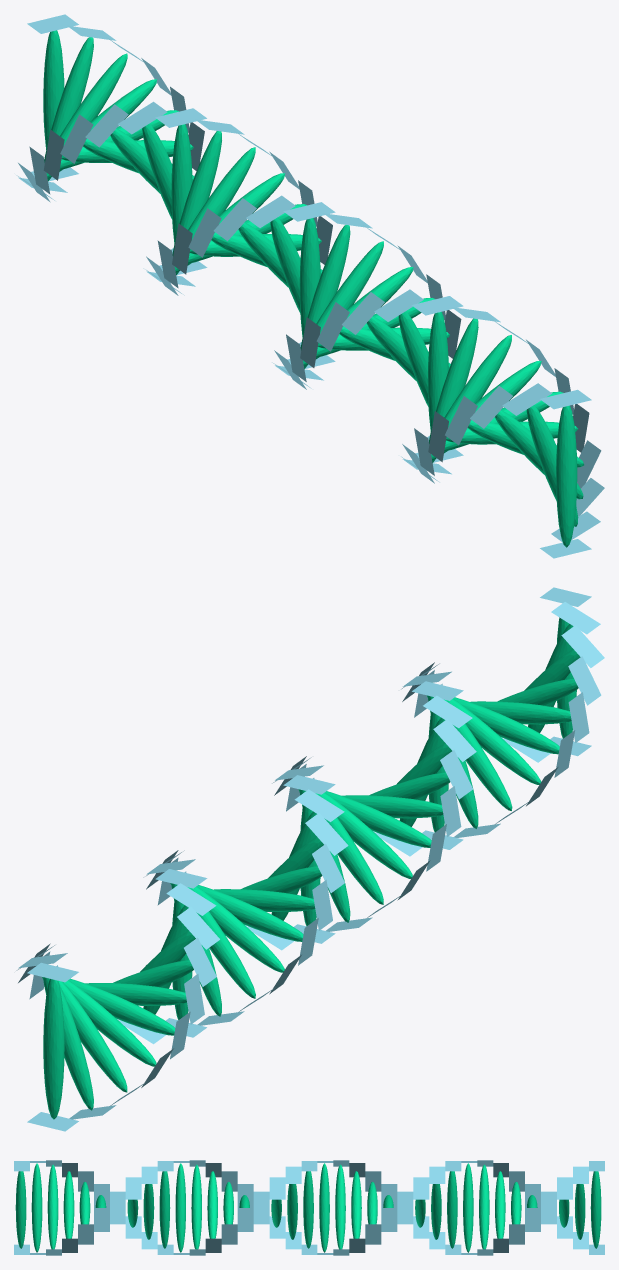
Rendered from HUMANGEN.glb.
3 renders of one model, top to bottom at view 1: azimuth 30°, elevation 25°; view 2: azimuth 150°, elevation 25°; view 3: azimuth 270°, elevation 25°, orthographic. The views are drawn at different scales.
Parts seen in each view (by area): view 1: _0; view 2: _0; view 3: _0.
Part boxes in pixels (<box>): _0: <box>16,14,604,558</box>; _0: <box>16,587,604,1131</box>; _0: <box>14,1160,604,1255</box>.
Size of the model in its own units: 0.6542 by 0.6543 by 4.06.
